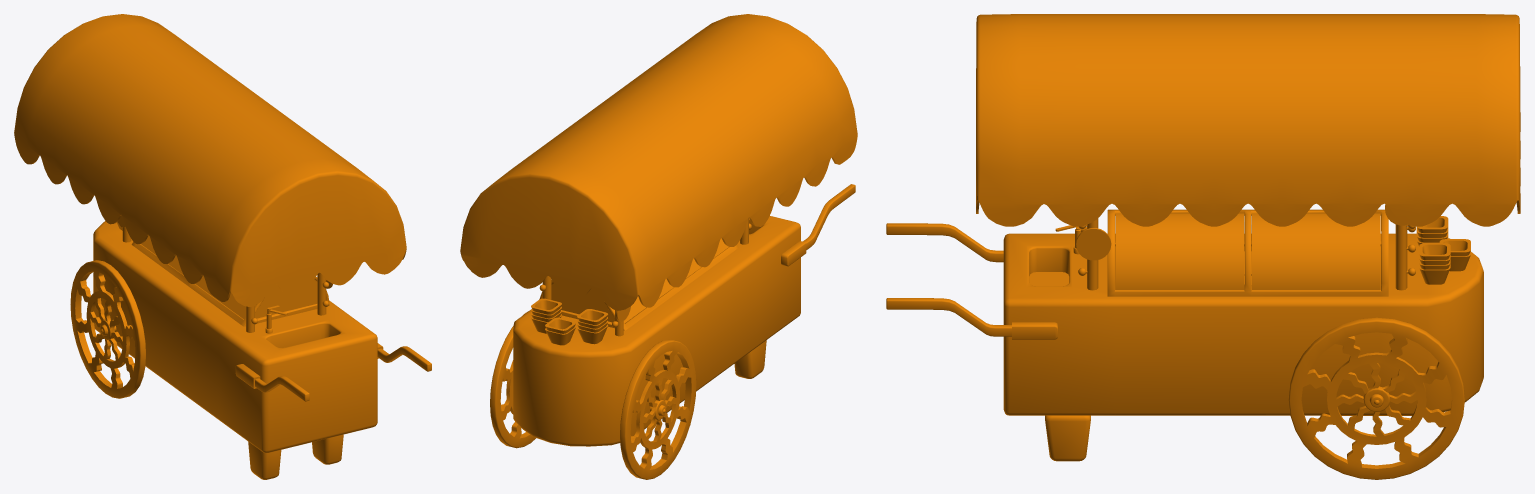
Rendered from StandDeGlaceLow.fbx.
3 renders of one model, left to right at view 1: azimuth 30°, elevation 25°; view 2: azimuth 150°, elevation 25°; view 3: azimuth 270°, elevation 25°, orthographic. The views are drawn at different scales.
Visible parts, largest first — view 1: Parasole.Low, Stand.Low, Roue.Low, Vitre.Low, PiedGlace.Low, Support.Low, ContourVitre.Low, Tube.Low; view 2: Parasole.Low, Stand.Low, Roue.Low, Vitre.Low, Support.Low, ContourVitre.Low, Pot3.Low, PiedGlace.Low, Pot.Low, Pot2.Low, Tube.Low; view 3: Parasole.Low, Stand.Low, Vitre.Low, Roue.Low, ContourVitre.Low, Support.Low, PiedGlace.Low, Tube.Low, Pot.Low, Déco.Low, Pot3.Low, Pot2.Low.
Boxes of the visible parts, left/top/right/bottom form: Parasole.Low: left=14, top=14, right=406, bottom=306; Stand.Low: left=93, top=221, right=377, bottom=452; Roue.Low: left=70, top=260, right=145, bottom=398; Vitre.Low: left=141, top=235, right=317, bottom=319; PiedGlace.Low: left=248, top=434, right=343, bottom=479; Support.Low: left=235, top=343, right=431, bottom=401; ContourVitre.Low: left=131, top=242, right=329, bottom=326; Tube.Low: left=122, top=227, right=326, bottom=332; Parasole.Low: left=460, top=14, right=857, bottom=310; Stand.Low: left=513, top=216, right=800, bottom=446; Roue.Low: left=490, top=311, right=696, bottom=479; Vitre.Low: left=551, top=238, right=728, bottom=323; Support.Low: left=781, top=184, right=855, bottom=266; ContourVitre.Low: left=539, top=245, right=738, bottom=330; Pot3.Low: left=577, top=309, right=607, bottom=344; PiedGlace.Low: left=734, top=340, right=766, bottom=378; Pot.Low: left=531, top=298, right=561, bottom=333; Pot2.Low: left=545, top=317, right=575, bottom=345; Tube.Low: left=542, top=218, right=748, bottom=336; Parasole.Low: left=976, top=14, right=1520, bottom=226; Stand.Low: left=1003, top=233, right=1483, bottom=415; Vitre.Low: left=1115, top=213, right=1380, bottom=289; Roue.Low: left=1288, top=317, right=1464, bottom=479; ContourVitre.Low: left=1107, top=209, right=1388, bottom=296; Support.Low: left=886, top=223, right=1057, bottom=339; PiedGlace.Low: left=1045, top=415, right=1090, bottom=461; Tube.Low: left=1087, top=218, right=1407, bottom=290; Pot.Low: left=1419, top=243, right=1450, bottom=284; Déco.Low: left=1076, top=204, right=1408, bottom=260; Pot3.Low: left=1416, top=216, right=1448, bottom=246; Pot2.Low: left=1439, top=239, right=1470, bottom=271.
Size of the model in its own units: 200 by 348 by 493.
